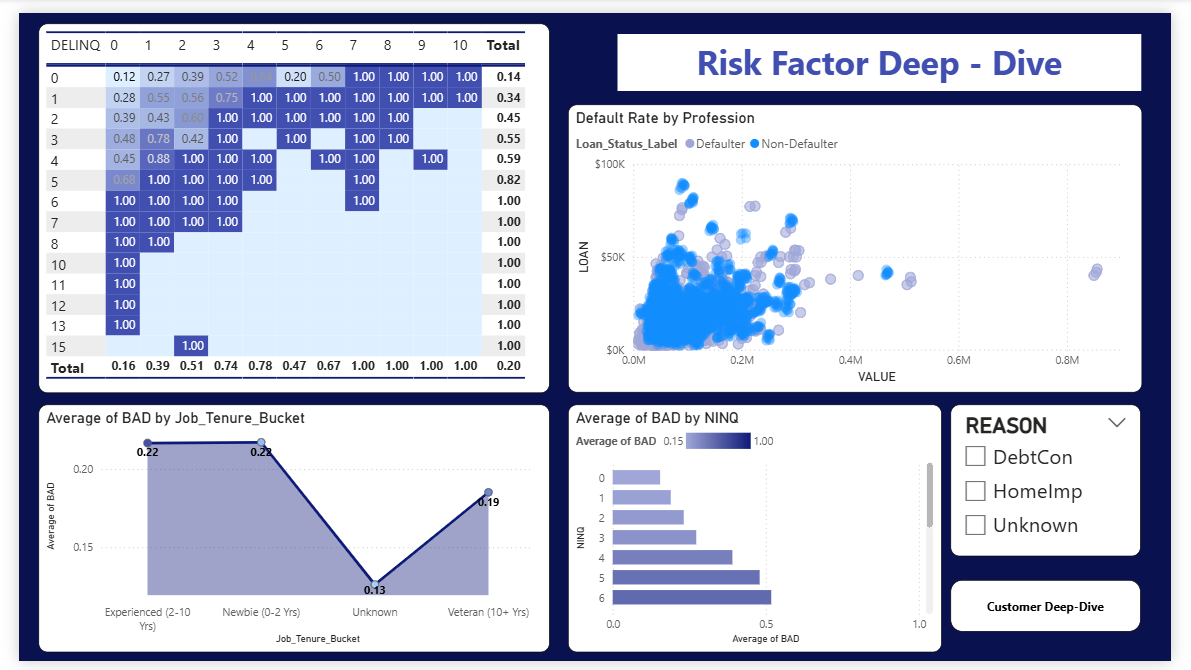

Layout of this report page (visuals, bound fields, positions):
{"tool":"powerbi","page":{"name":"Risk Analysis","canvas":[1280,720],"ordinal":1},"visuals":[{"type":"pivotTable","fields":{"Rows":["Query1.DELINQ"],"Values":["Avg(Query1.BAD)"],"Columns":["Query1.DEROG"]},"box":[22.3,11.1,567.8,410.4],"z":0},{"type":"scatterChart","title":"Default Rate by Profession","fields":{"X":["Query1.VALUE"],"Y":["Query1.LOAN"],"Series":["Query1.Loan_Status_Label"]},"box":[609.2,101.8,637.8,319.7],"z":1000},{"type":"areaChart","fields":{"Category":["Query1.Job_Tenure_Bucket"],"Y":["Avg(Query1.BAD)"]},"box":[22.3,434.2,567.8,275.2],"z":2000},{"type":"textbox","box":[665,23.3,581.7,63.3],"z":3000},{"type":"clusteredBarChart","fields":{"Y":["Avg(Query1.BAD)"],"Category":["Query1.NINQ"]},"box":[609.2,435.8,415.1,275.2],"z":4000},{"type":"slicer","fields":{"Values":["Query1.REASON"]},"box":[1035.5,434.2,211.6,168.6],"z":5000},{"type":"actionButton","box":[1035.5,629.9,211.6,57.3],"z":5001}]}

Visuals, with their boxes in screenshot pixels (x1, y1, x2, y2), scaled from the page's 1280x720 canvas onto the 1191x670 screenshot:
pivotTable - Query1.DELINQ x Avg(Query1.BAD): (left=21, top=10, right=549, bottom=392)
"Default Rate by Profession" scatterChart: (left=567, top=95, right=1160, bottom=392)
areaChart - Query1.Job_Tenure_Bucket x Avg(Query1.BAD): (left=21, top=404, right=549, bottom=660)
textbox: (left=619, top=22, right=1160, bottom=81)
clusteredBarChart - Avg(Query1.BAD) x Query1.NINQ: (left=567, top=406, right=953, bottom=662)
slicer - Query1.REASON: (left=964, top=404, right=1160, bottom=561)
actionButton: (left=964, top=586, right=1160, bottom=639)
